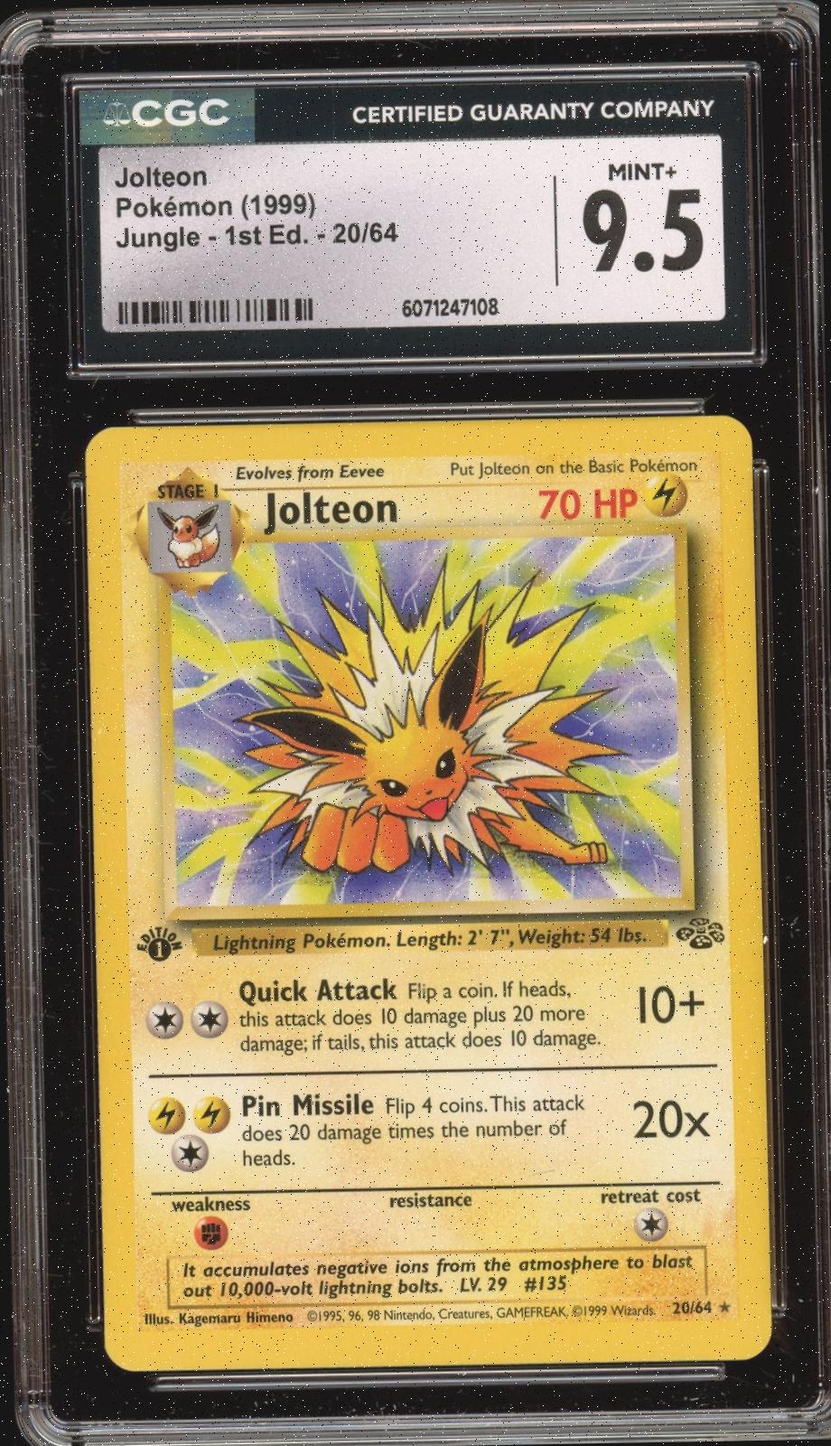card-2UtV: (84, 414, 773, 1373)
